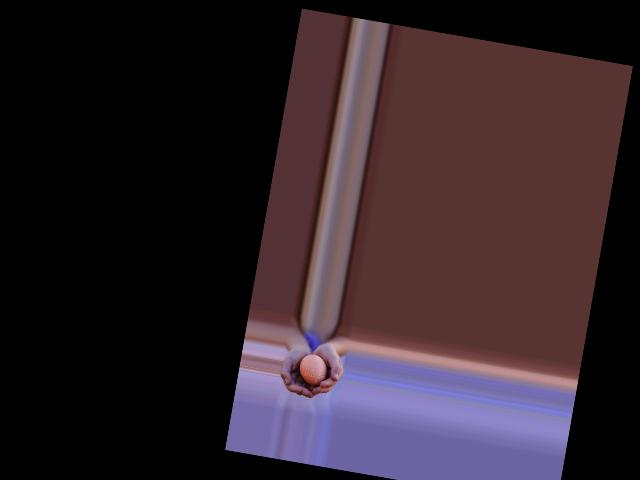egg: (296, 352, 329, 387)
